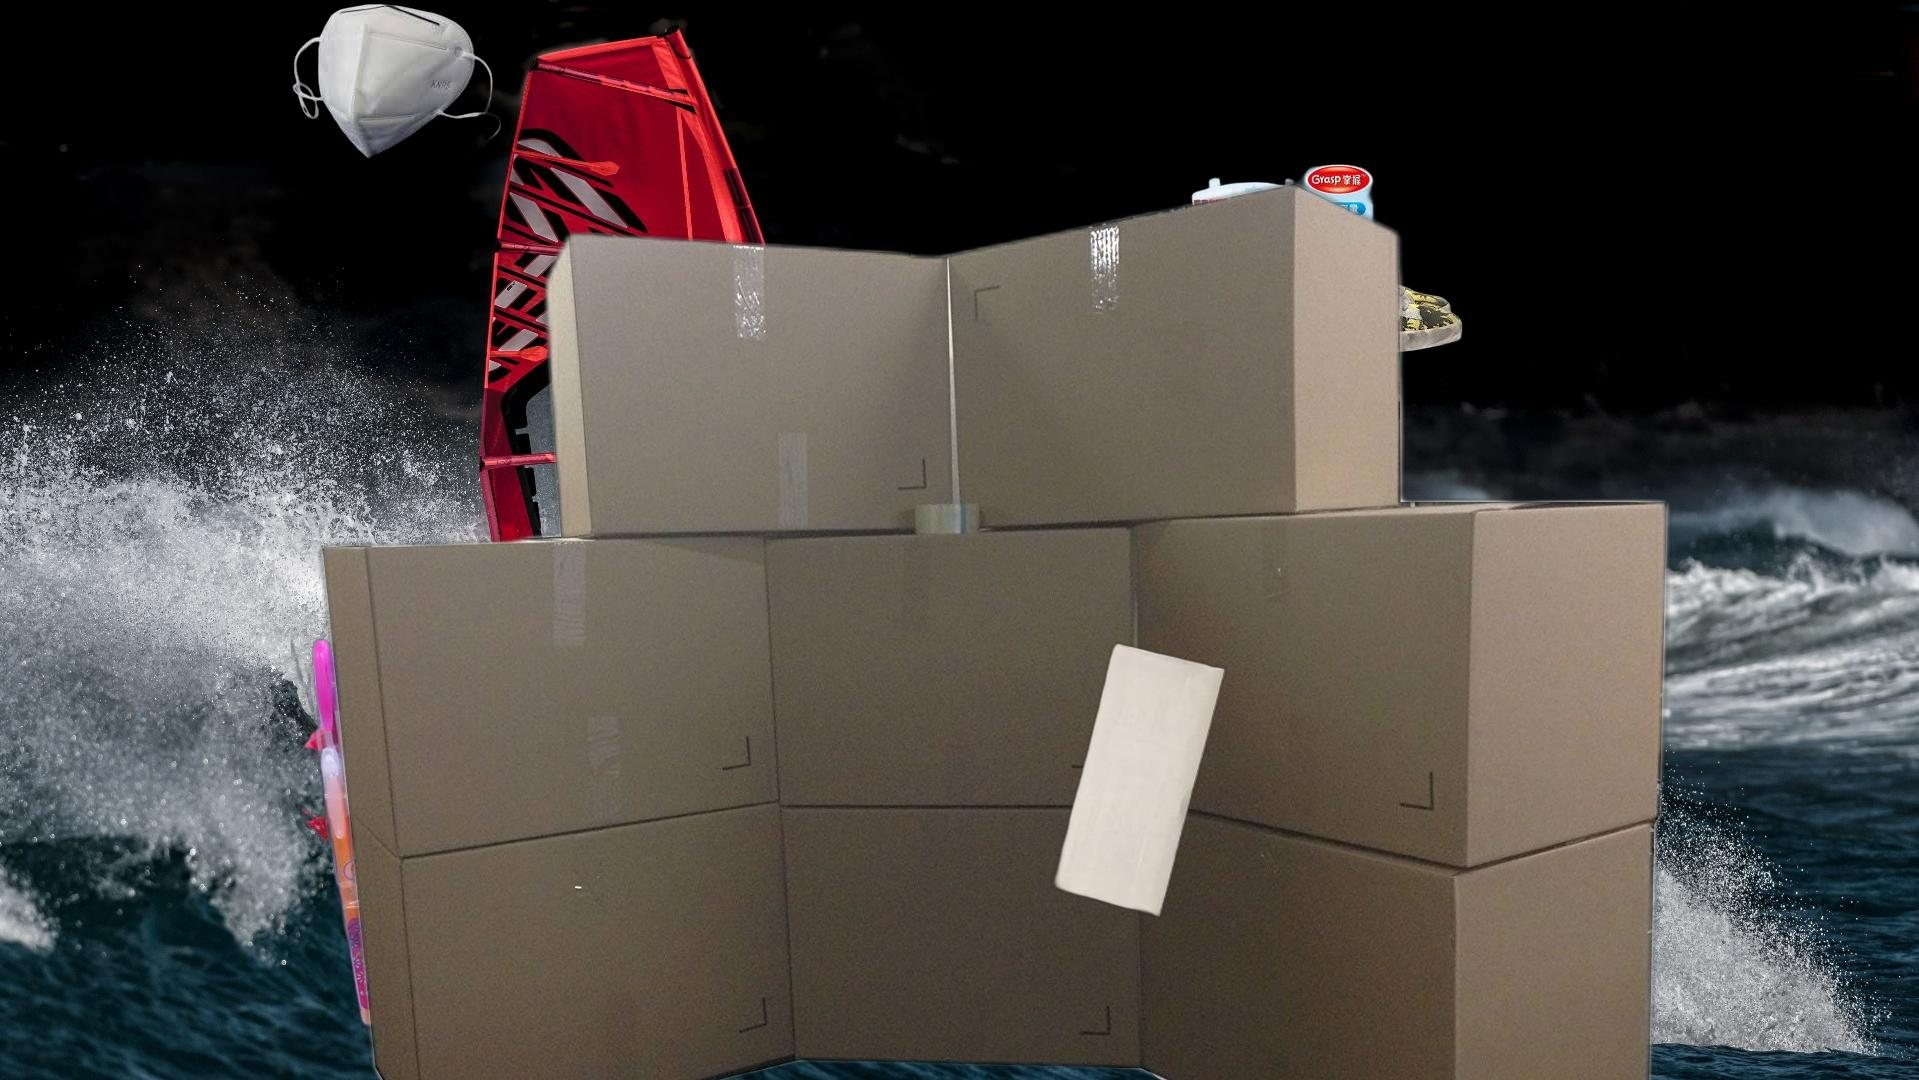paper: (1046, 641, 1230, 921)
paper-bag: (1317, 698, 1599, 984)
penholder: (291, 624, 680, 1033), (1189, 156, 1381, 336)
shoes: (1221, 221, 1465, 368)
trash: (290, 1, 504, 162), (1111, 946, 1304, 1080)
trashbox-cardboard: (307, 173, 1681, 1080)
